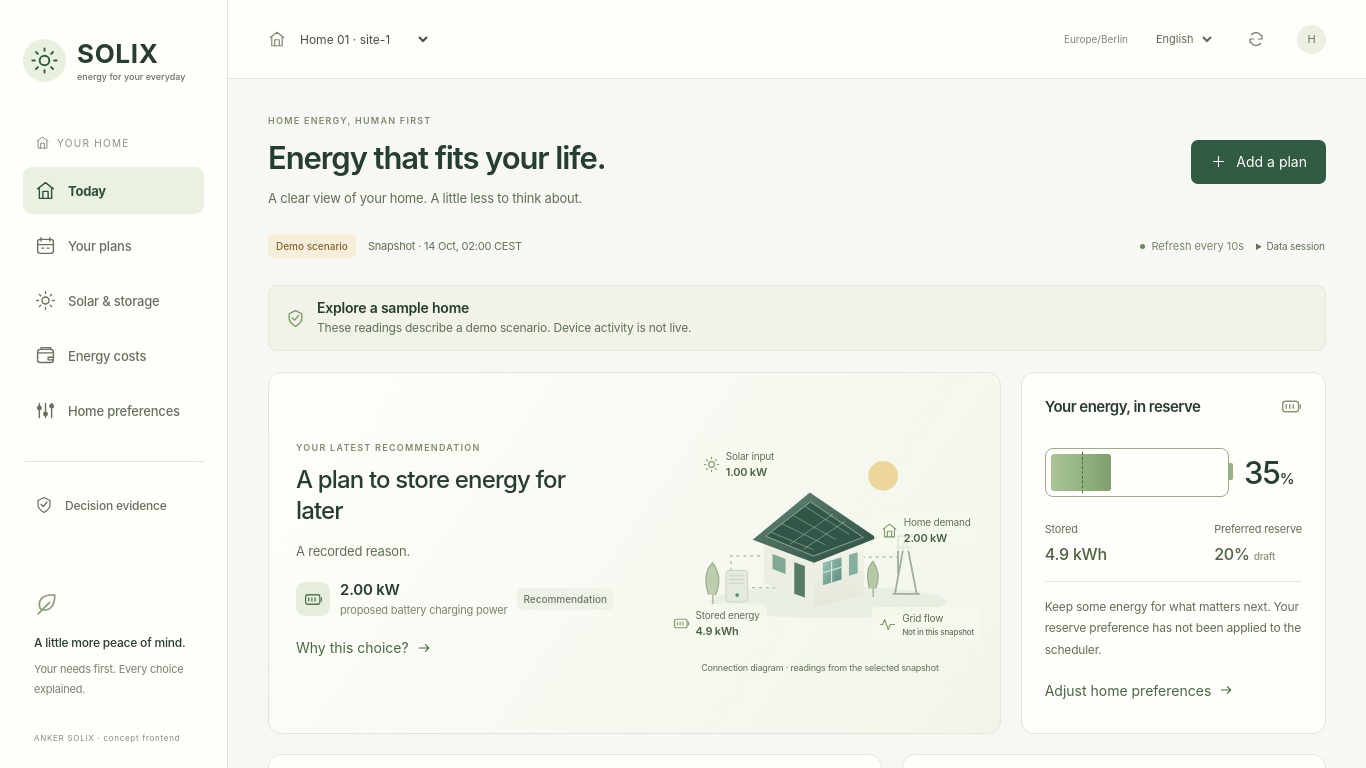
Test: Household-first experience › blocks overlapping independent plans instead of promising household feasibility
Expected: the text "A recorded reason." is shown, [296,543,410,559]
Click the button "Add a plan": x=1259, y=162 [1191,140,1326,184]
(page scrolled)
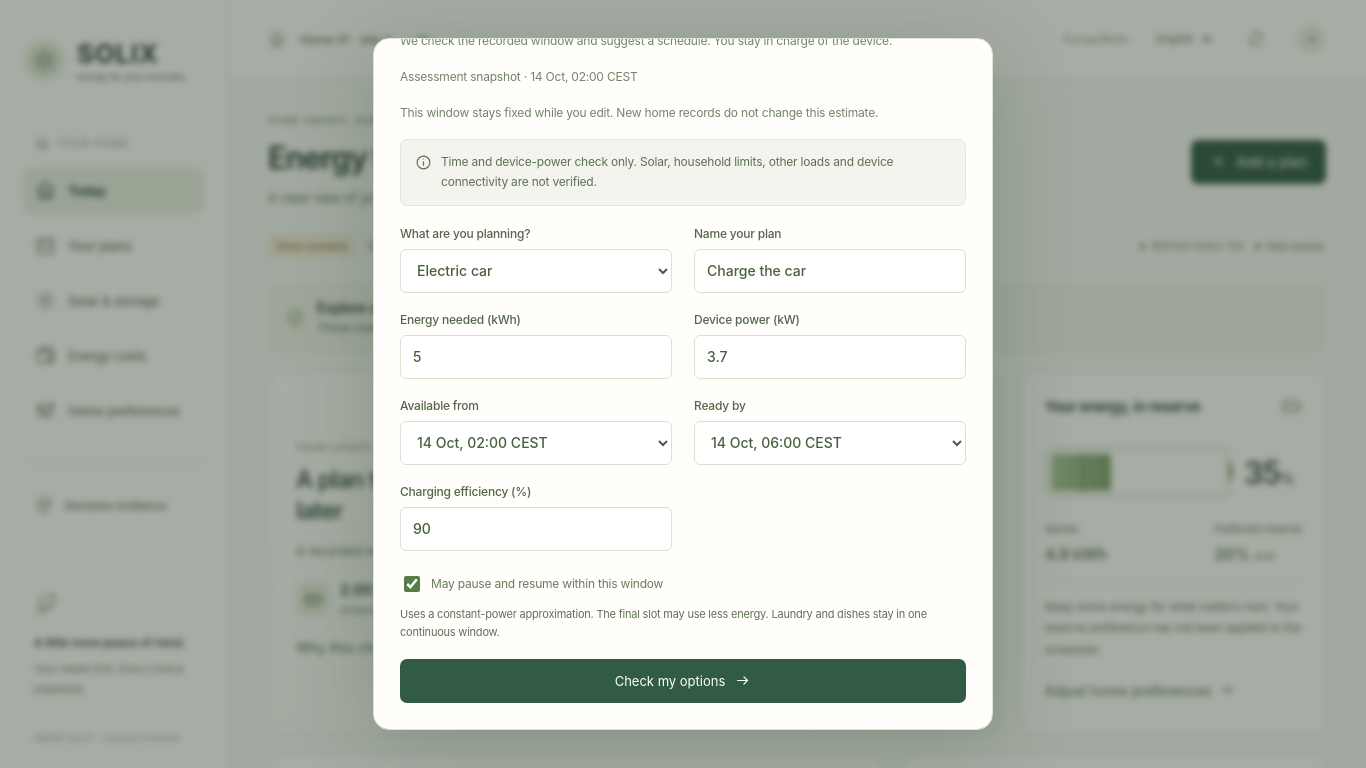
Click the button "Check my options": x=683, y=681 [400,659,966,703]
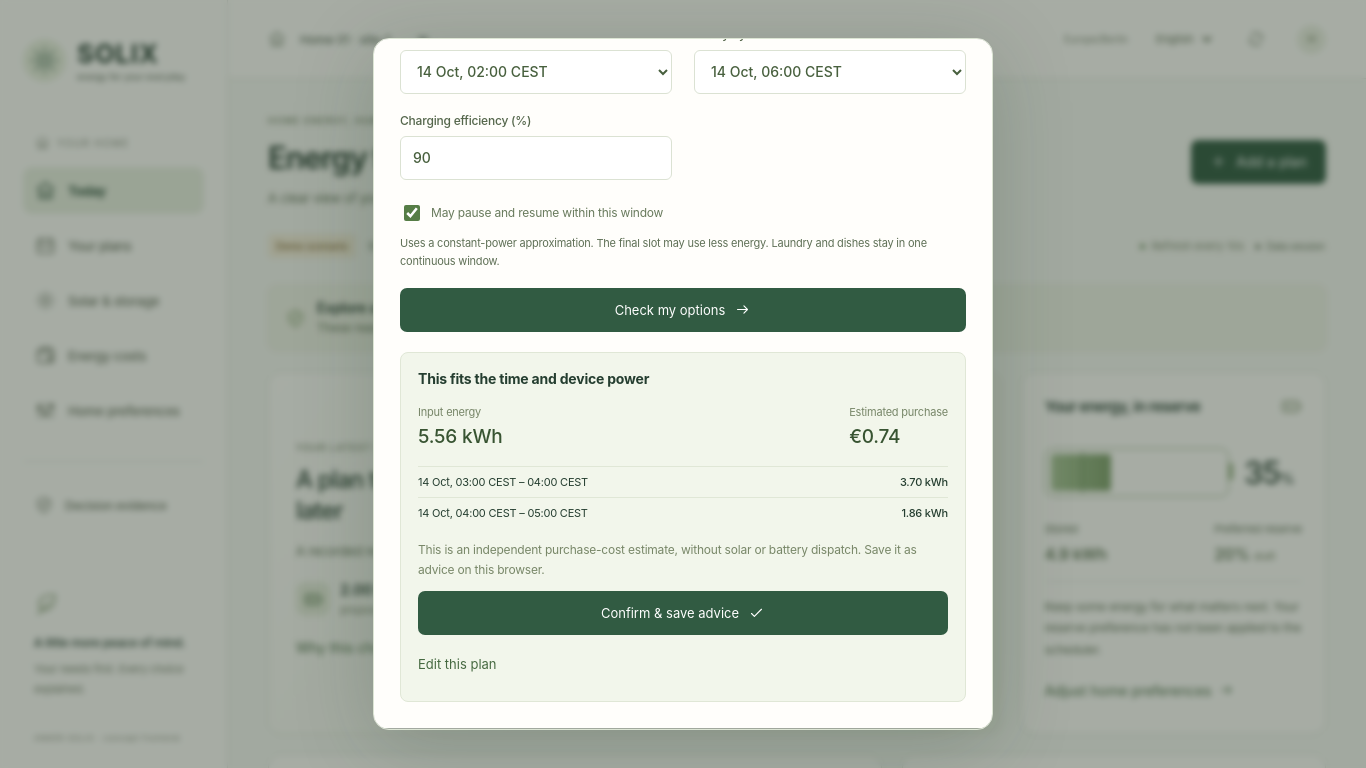
Click the button "Confirm & save advice": x=683, y=614 [418,592,948,636]
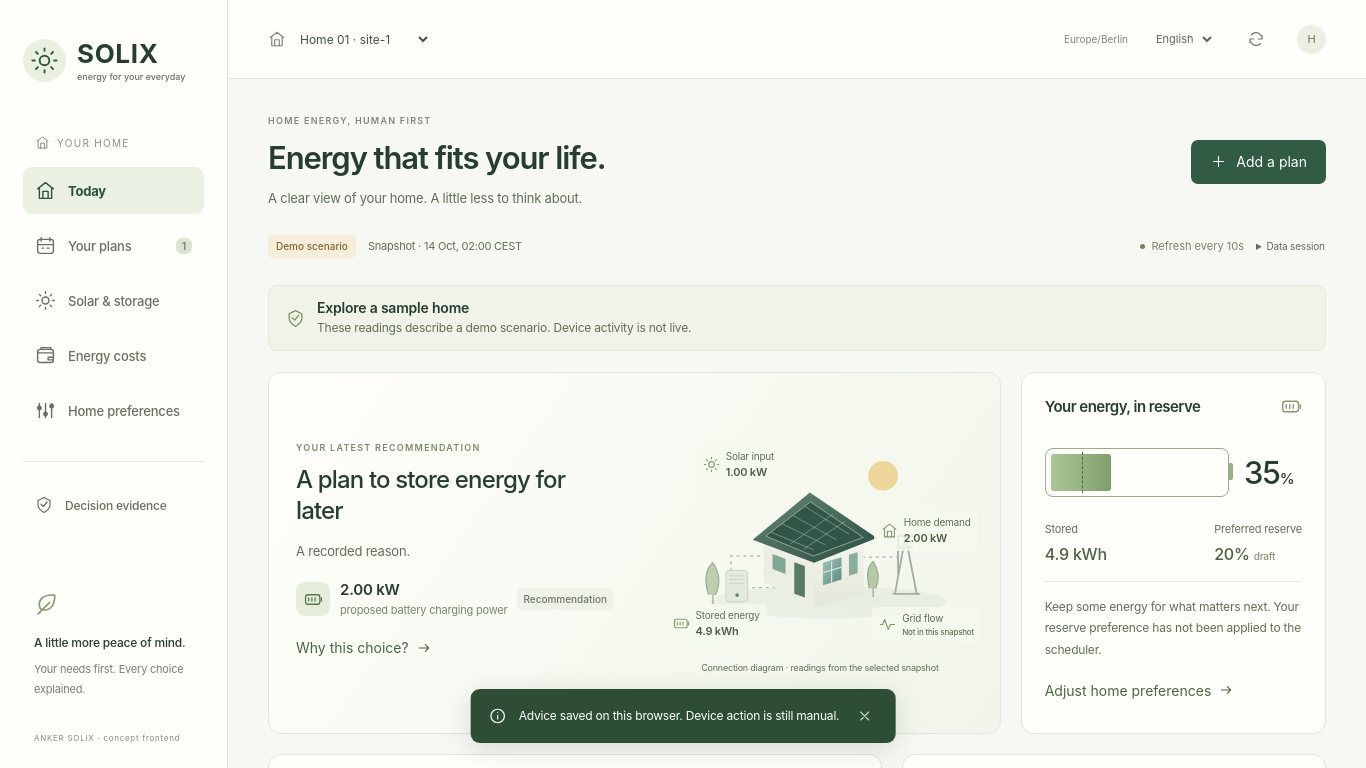
Click the button "Add a plan": x=1259, y=162 [1191,140,1326,184]
(page scrolled)
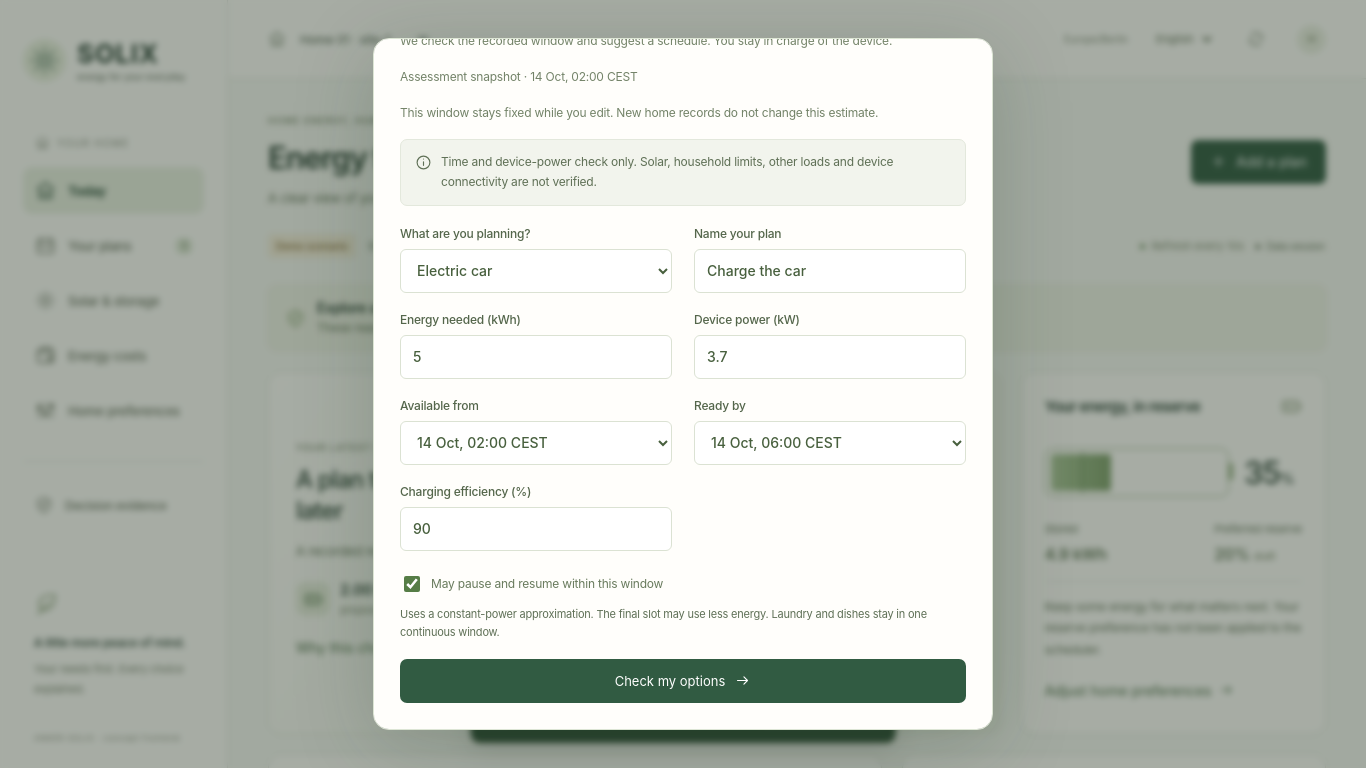
Click the button "Check my options": x=683, y=681 [400,659,966,703]
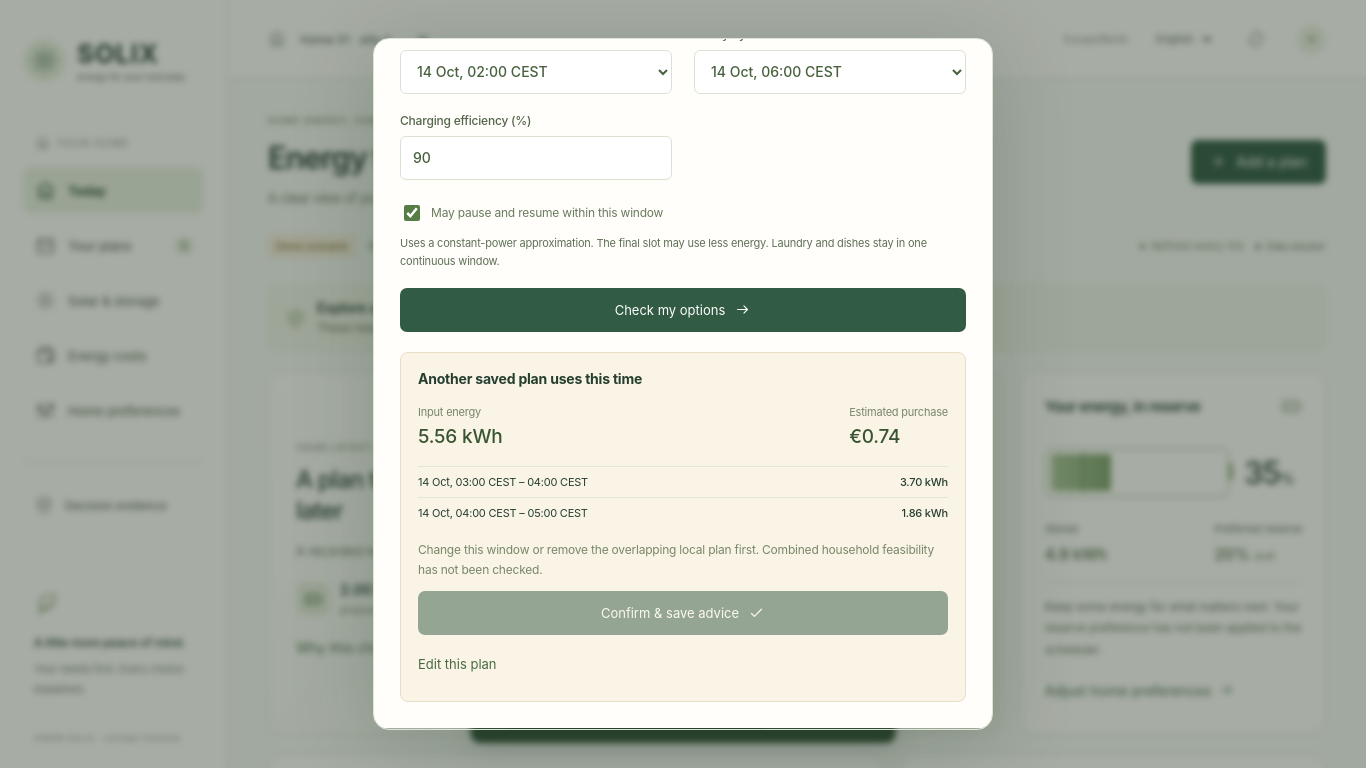
Expected: the text "Another saved plan uses this time" is shown, [418,370,642,387]
Expected: the button "Confirm & save advice" is disabled, [418,592,948,636]
